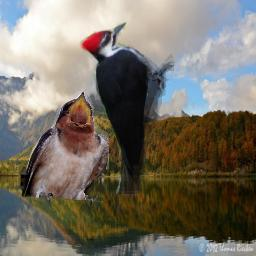Swallow: (22, 91, 109, 207)
Woodpecker: (77, 21, 175, 194)
